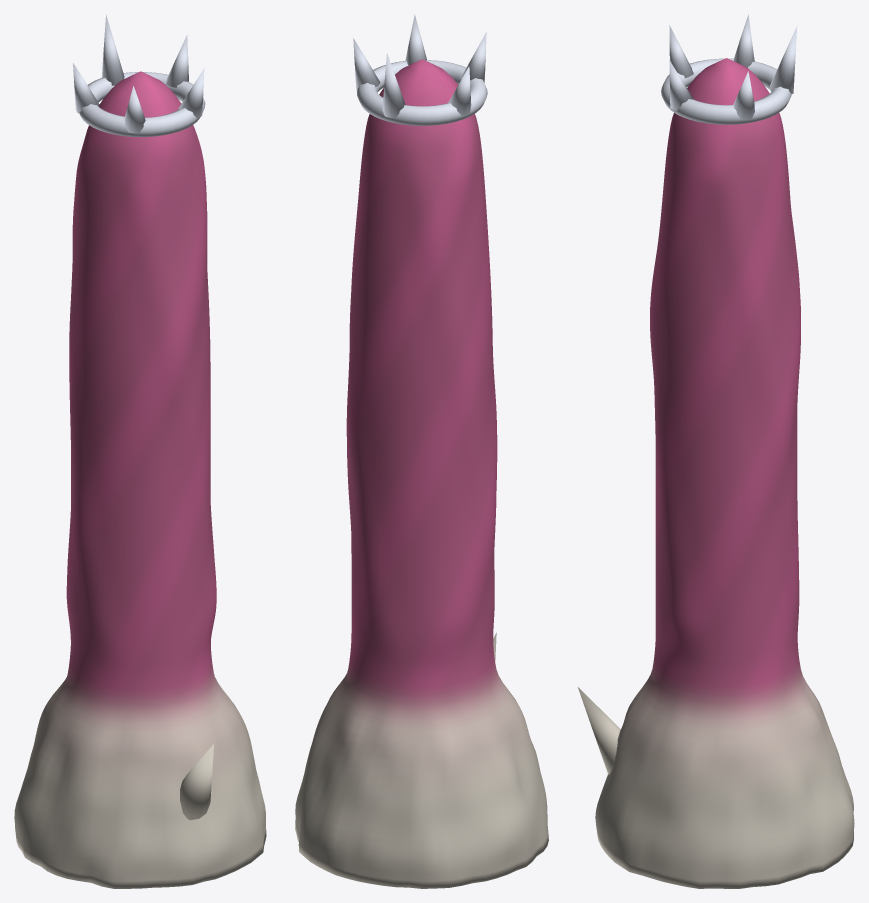
Rendered from queen.glb.
The picture shows the model from 3 angles, left to right: view 1: azimuth 30°, elevation 25°; view 2: azimuth 150°, elevation 25°; view 3: azimuth 270°, elevation 25°; orthographic projection.
Visible parts, largest first — view 1: queen, tiara; view 2: queen, tiara; view 3: queen, tiara.
Boxes of the visible parts, bbox=[...] form: queen: bbox=[14, 71, 266, 888]; tiara: bbox=[73, 14, 205, 136]; queen: bbox=[295, 59, 548, 888]; tiara: bbox=[353, 14, 487, 125]; queen: bbox=[578, 58, 854, 888]; tiara: bbox=[661, 14, 797, 124].
Bounding box in the file's own units: 0.344 × 1.2 × 0.3715.
